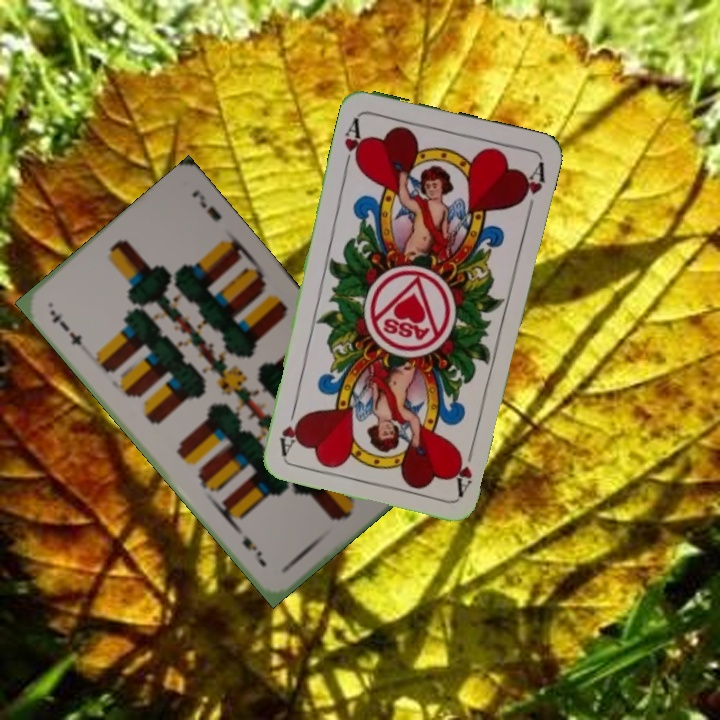E7: (46, 306, 85, 349)
HA: (447, 439, 477, 498), (340, 113, 368, 171)
